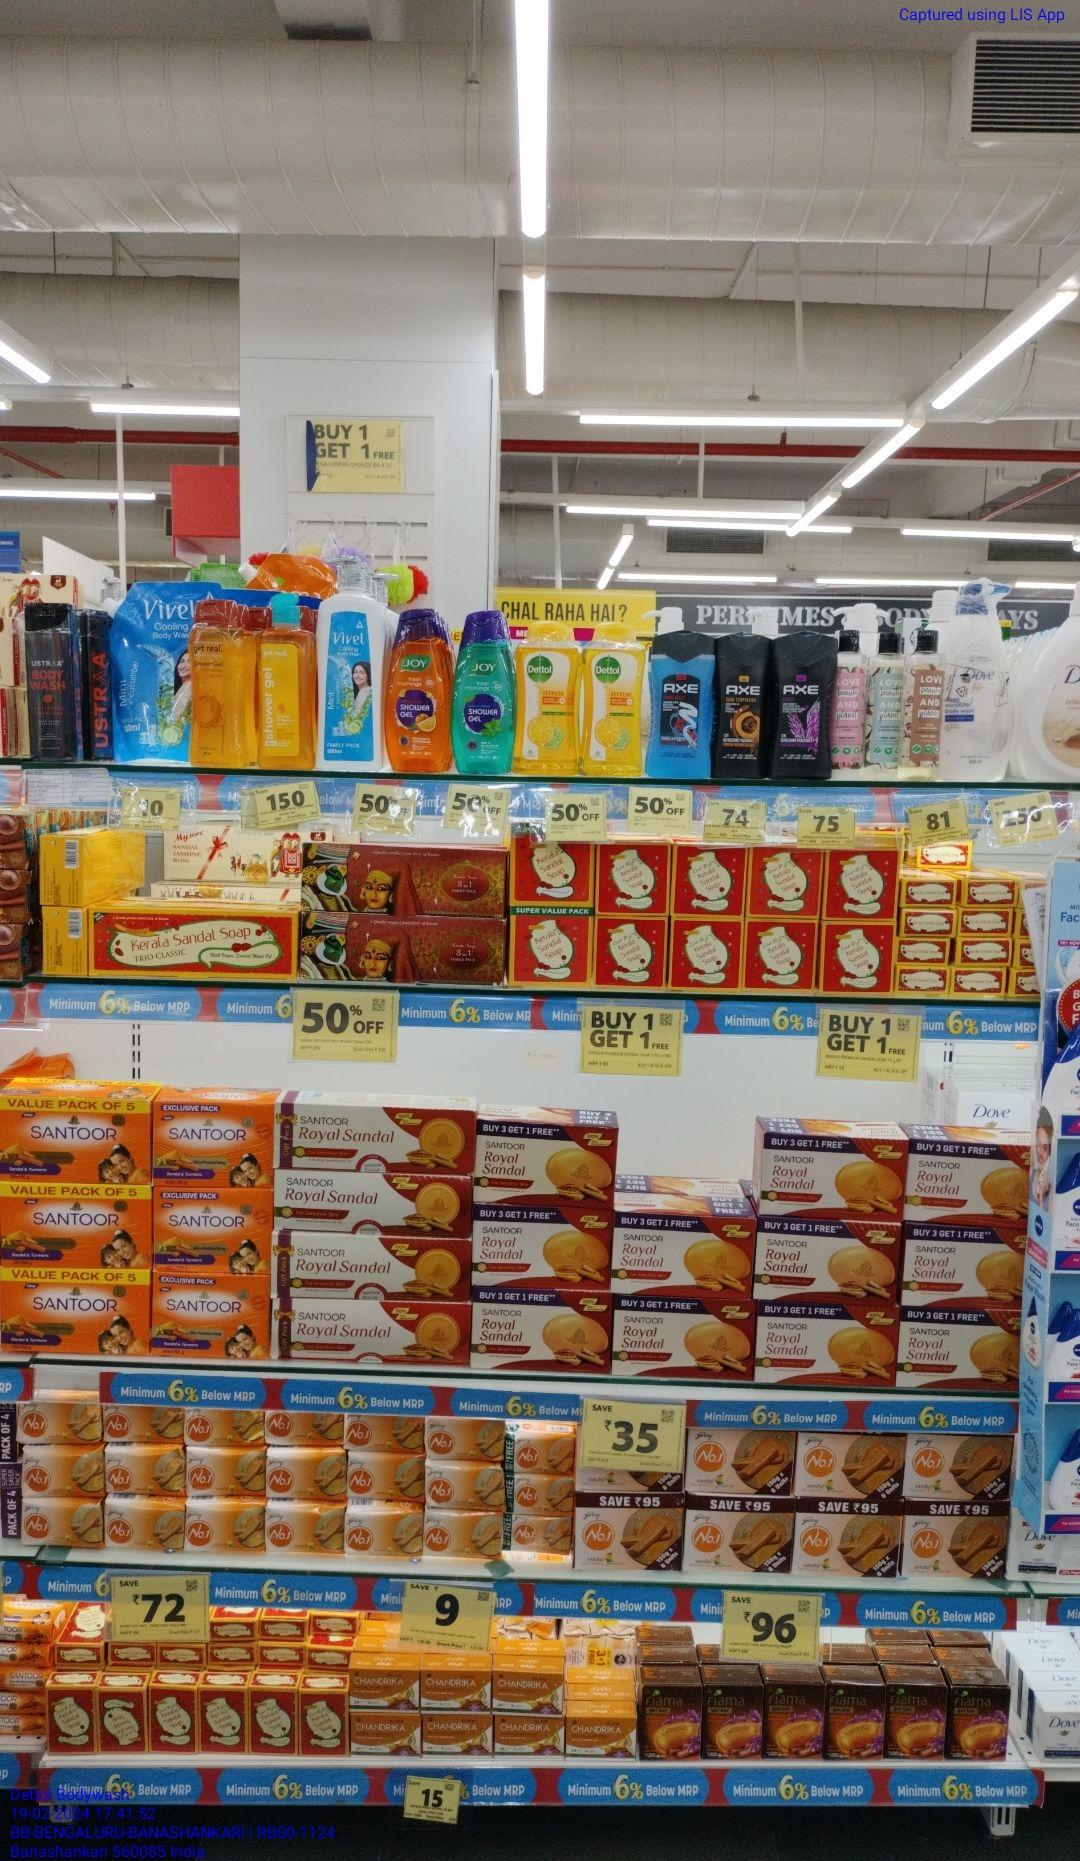Dettol_Bodywash_Refresh: (518, 619, 581, 775), (584, 619, 645, 778)
Get_Real_Shower_Gel_Moisturising_Glycerin_300ML: (192, 599, 257, 767)
Joy_Shower_Gel_Mandarin_and_Lemongrass_250ML: (386, 607, 453, 775)
Joy_Shower_Gel_Mint_and_Eucalyptus_250ML: (455, 607, 514, 778)
